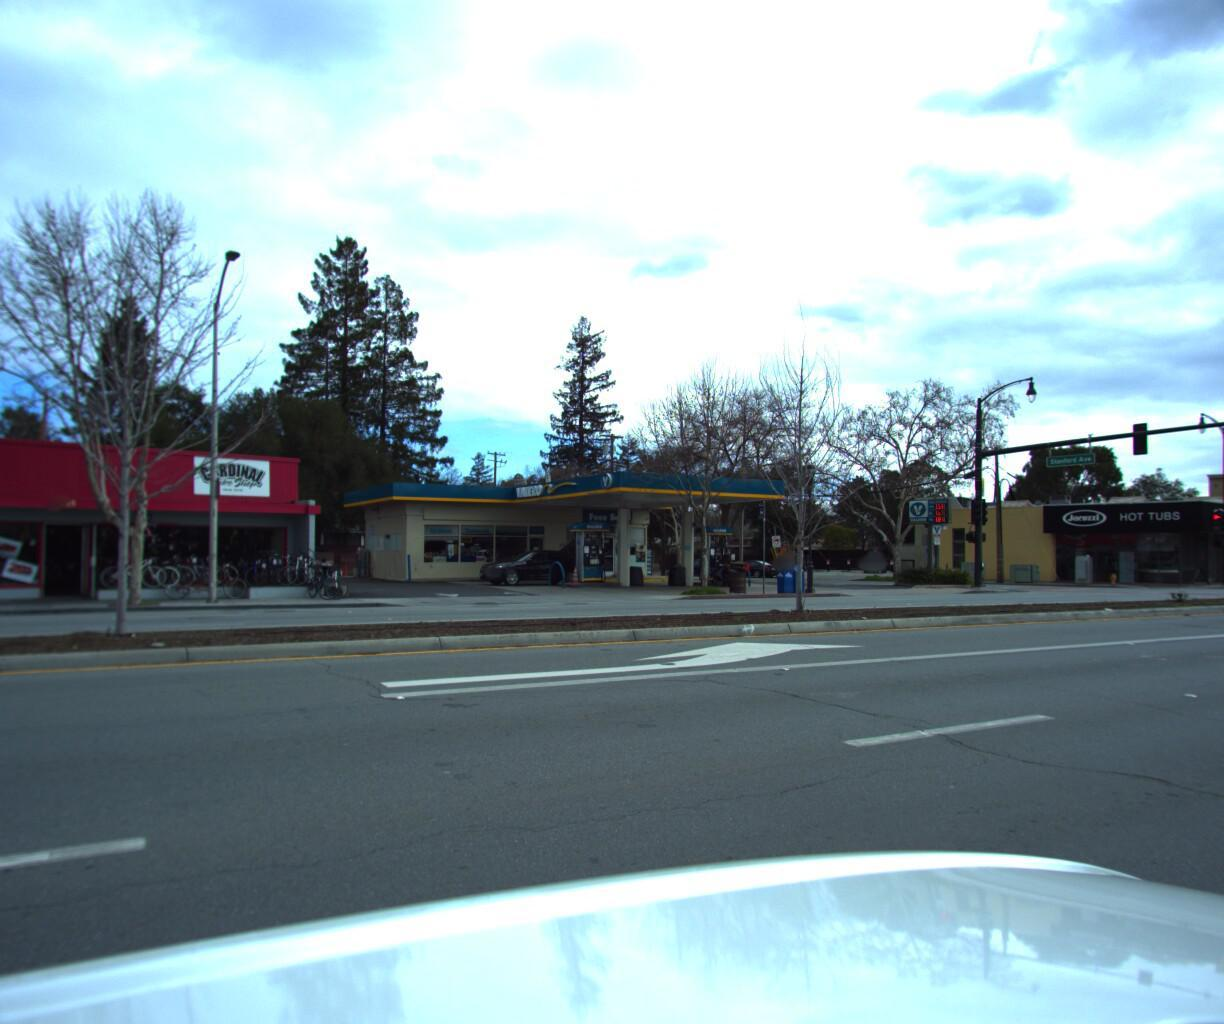car: (469, 537, 601, 584), (719, 552, 779, 573)
motorcycle: (696, 546, 752, 583)
